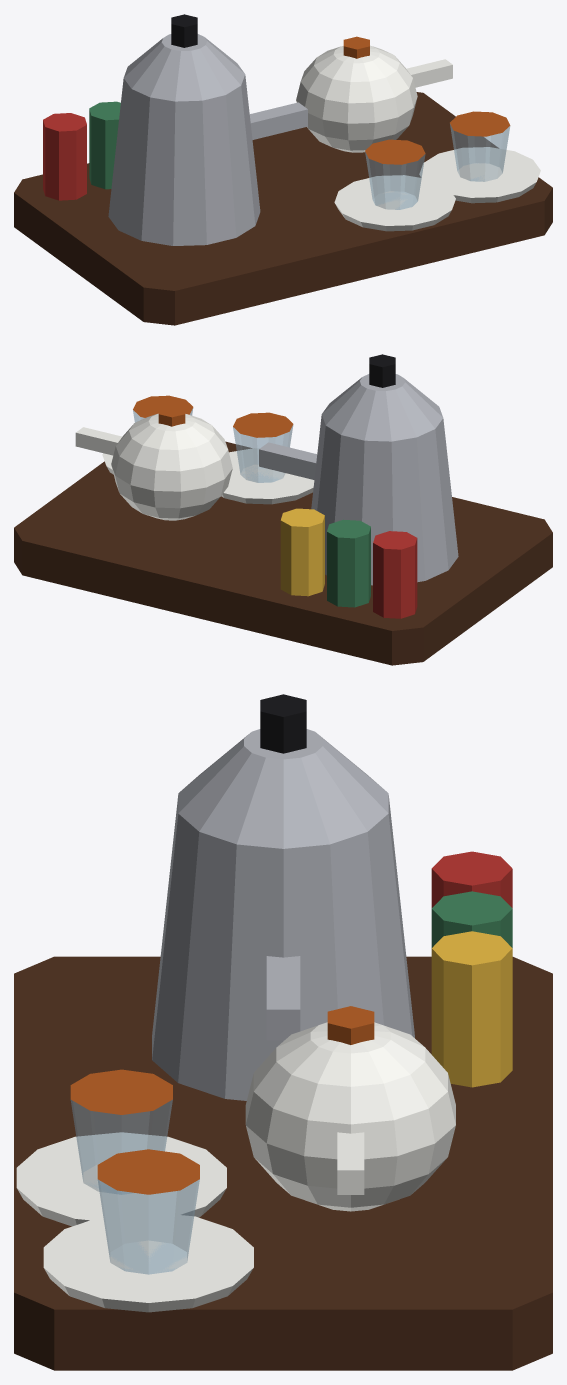
The model's file is tea_station.obj.
3 renders of one model, top to bottom at view 1: azimuth 30°, elevation 25°; view 2: azimuth 150°, elevation 25°; view 3: azimuth 270°, elevation 25°, orthographic. The views are drawn at different scales.
Parts seen in each view (by area): view 1: tea_station; view 2: tea_station; view 3: tea_station.
Part boxes in pixels (x1,y1,x2,y2): tea_station: (14, 14, 552, 325); tea_station: (14, 354, 552, 665); tea_station: (14, 694, 552, 1370).
Bounding box in the file's own units: 0.63 × 0.33 × 0.4.
